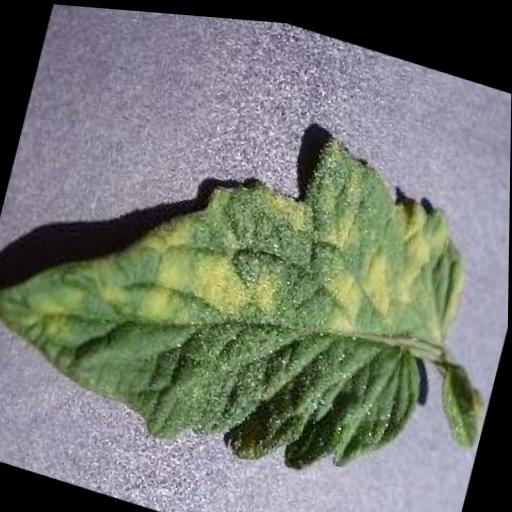Leaf Mold: (0, 40, 490, 511)
